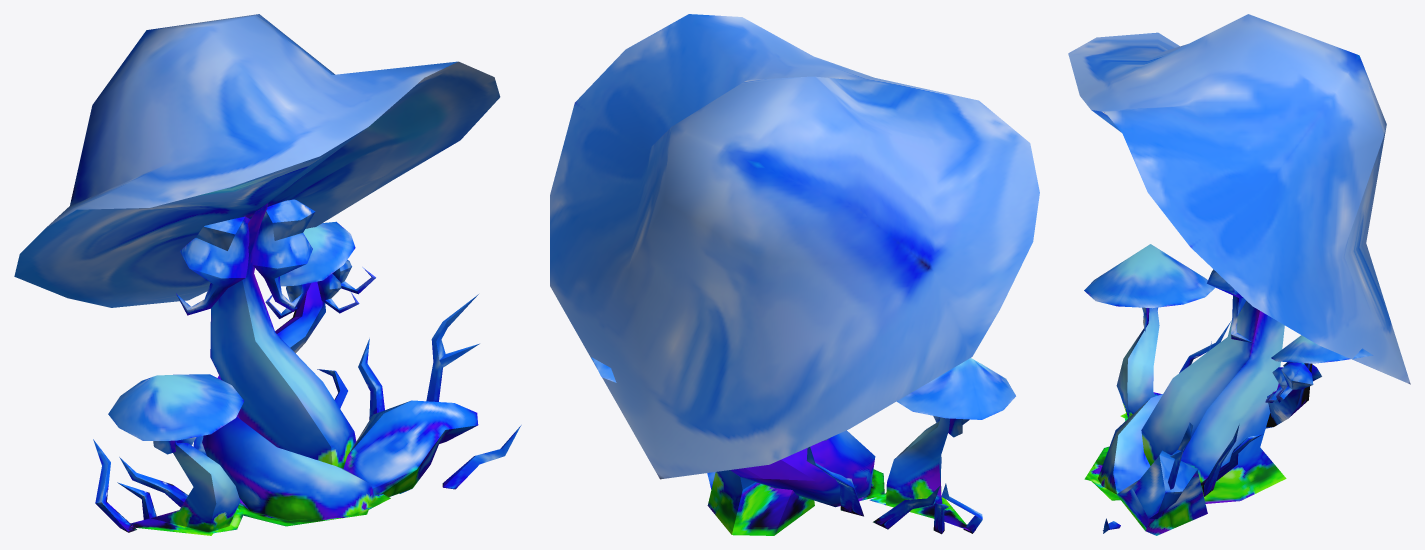
The model's file is Sea_mogu01.FBX.
3 renders of one model, left to right at view 1: azimuth 30°, elevation 25°; view 2: azimuth 150°, elevation 25°; view 3: azimuth 270°, elevation 25°, orthographic. The views are drawn at different scales.
Parts seen in each view (by area): view 1: haimogu; view 2: haimogu; view 3: haimogu.
Boxes of the visible parts, bbox=[...] form: haimogu: bbox=[14, 14, 521, 535]; haimogu: bbox=[550, 14, 1039, 535]; haimogu: bbox=[1068, 14, 1410, 535].
Size of the model in its own units: 49.74 by 49.05 by 33.65.
